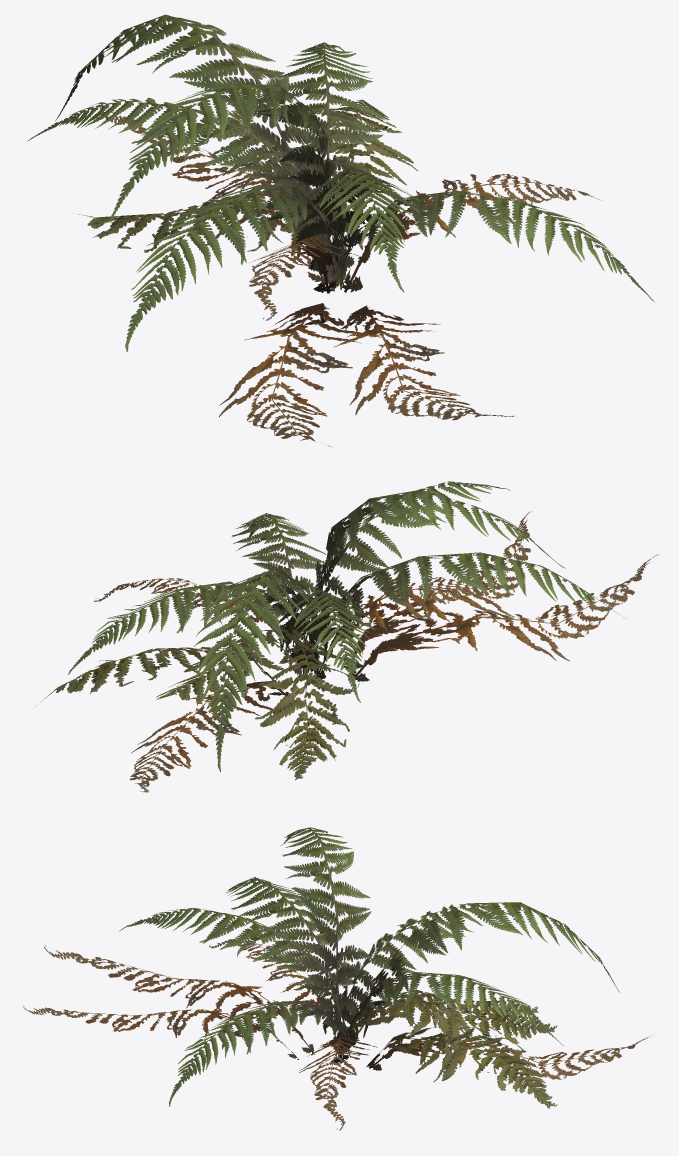
File: PW_Plant_Fern_Realistic_01.fbx
3 views of the same model, one above another, from view 1: azimuth 30°, elevation 25°; view 2: azimuth 150°, elevation 25°; view 3: azimuth 270°, elevation 25° (orthographic). The views are drawn at different scales.
Parts seen in each view (by area): view 1: PW_Plant_Fern_Realistic_01_LOD0; view 2: PW_Plant_Fern_Realistic_01_LOD0; view 3: PW_Plant_Fern_Realistic_01_LOD0.
Part boxes in pixels (left/top/right/bottom): PW_Plant_Fern_Realistic_01_LOD0: left=27, top=14, right=654, bottom=446; PW_Plant_Fern_Realistic_01_LOD0: left=36, top=481, right=659, bottom=792; PW_Plant_Fern_Realistic_01_LOD0: left=23, top=827, right=650, bottom=1130.
Size of what is drawn, in the model's own units: 197 by 85.82 by 269.
Materials: 1 (1 with a texture image).
